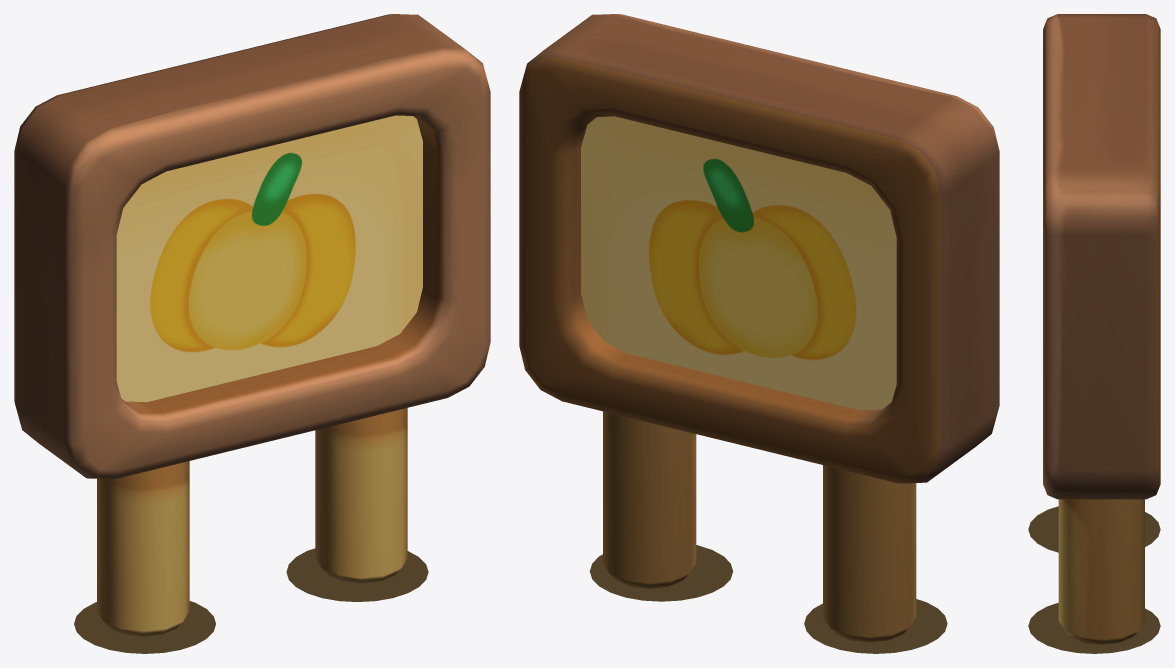
Rendered from Pumpkin_Notice.fbx.
3 views of the same model, side by side, from view 1: azimuth 30°, elevation 25°; view 2: azimuth 150°, elevation 25°; view 3: azimuth 270°, elevation 25° (orthographic). The views are drawn at different scales.
Parts seen in each view (by area): view 1: Pumpnotice_body, Pumpnotice_Stand, Pumpnotice_SDW1; view 2: Pumpnotice_body, Pumpnotice_Stand, Pumpnotice_SDW1; view 3: Pumpnotice_body, Pumpnotice_Stand, Pumpnotice_SDW1.
Boxes of the visible parts, x1,y1,x2,y2 form: Pumpnotice_body: (14, 14, 490, 479); Pumpnotice_Stand: (97, 408, 407, 636); Pumpnotice_SDW1: (74, 548, 428, 653); Pumpnotice_body: (519, 14, 999, 483); Pumpnotice_Stand: (603, 411, 916, 642); Pumpnotice_SDW1: (589, 545, 947, 653); Pumpnotice_body: (1043, 14, 1160, 499); Pumpnotice_Stand: (1058, 499, 1144, 644); Pumpnotice_SDW1: (1028, 506, 1160, 653).
Bounding box in the file's own units: 81.11 × 95.06 × 23.47.
Materials: 2 (1 with a texture image).
